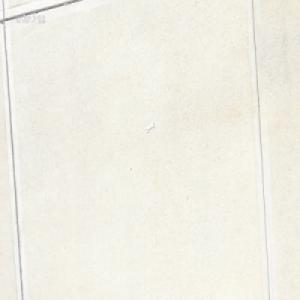Wrench: (146, 124, 154, 134)
